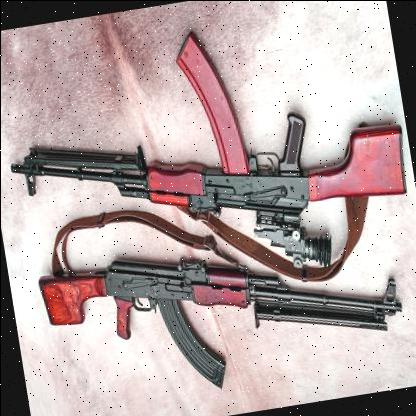rifle: (0, 0, 416, 290), (26, 180, 414, 416)
